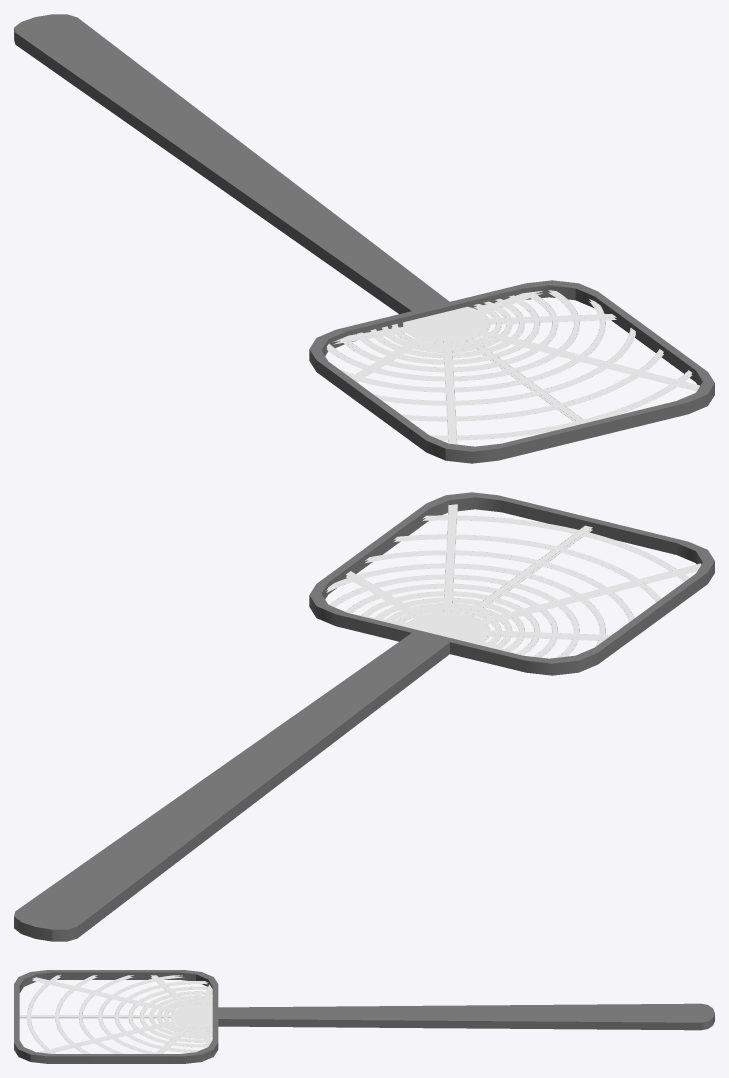
File: SwatterOBJ.obj
3 renders of one model, top to bottom at view 1: azimuth 30°, elevation 25°; view 2: azimuth 150°, elevation 25°; view 3: azimuth 270°, elevation 25°, orthographic. The views are drawn at different scales.
Visible parts, largest first — view 1: pCube1, polySurface9; view 2: pCube1, polySurface9; view 3: pCube1, polySurface9.
Part boxes in pixels (<box>): pCube1: <box>14,14,714,463</box>; polySurface9: <box>326,290,699,444</box>; pCube1: <box>14,492,714,941</box>; polySurface9: <box>326,504,701,657</box>; pCube1: <box>14,970,714,1063</box>; polySurface9: <box>19,975,212,1053</box>.
Size of the model in its own units: 7.4 by 0.3009 by 25.4.
Materials: 2 (1 with a texture image).
